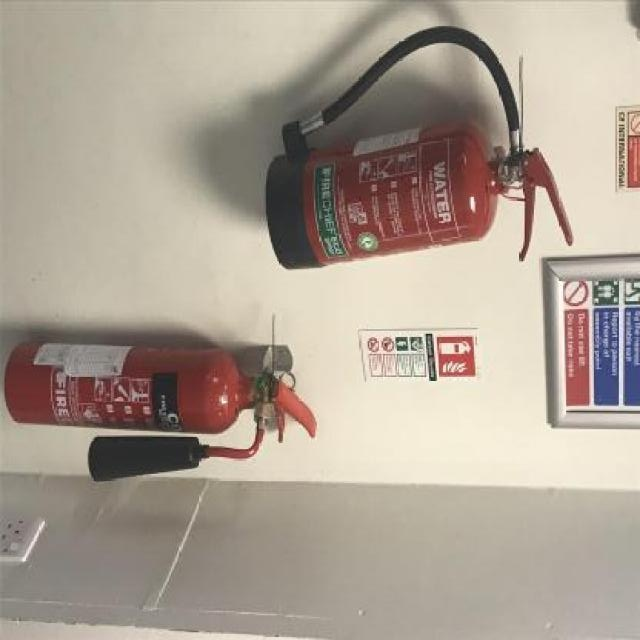fire extinguisher: (259, 21, 570, 288), (4, 334, 313, 492)
